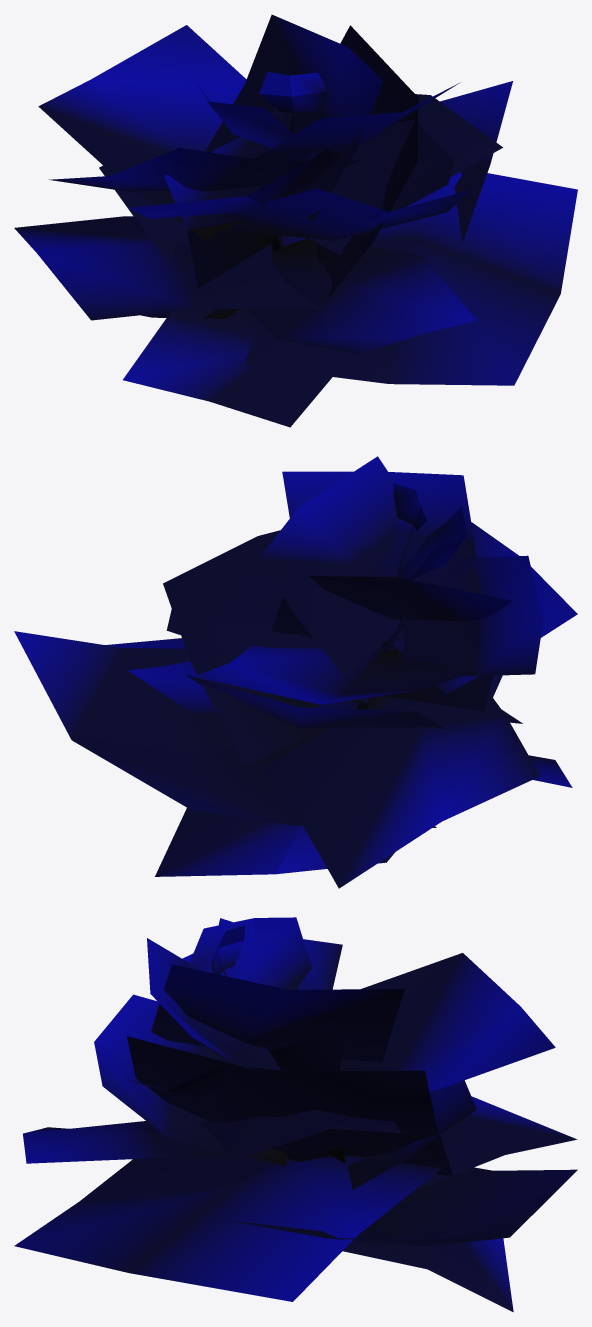
File: SM_Foliage_ShrubB_04.fbx
3 renders of one model, top to bottom at view 1: azimuth 30°, elevation 25°; view 2: azimuth 150°, elevation 25°; view 3: azimuth 270°, elevation 25°, orthographic. The views are drawn at different scales.
Visible parts, largest first — view 1: SM_Foliage_ShrubB_04; view 2: SM_Foliage_ShrubB_04; view 3: SM_Foliage_ShrubB_04.
Part boxes in pixels (<box>): SM_Foliage_ShrubB_04: <box>14,14,577,427</box>; SM_Foliage_ShrubB_04: <box>14,456,577,888</box>; SM_Foliage_ShrubB_04: <box>14,917,577,1312</box>.
Bounding box in the file's own units: 374 × 366 × 230.
